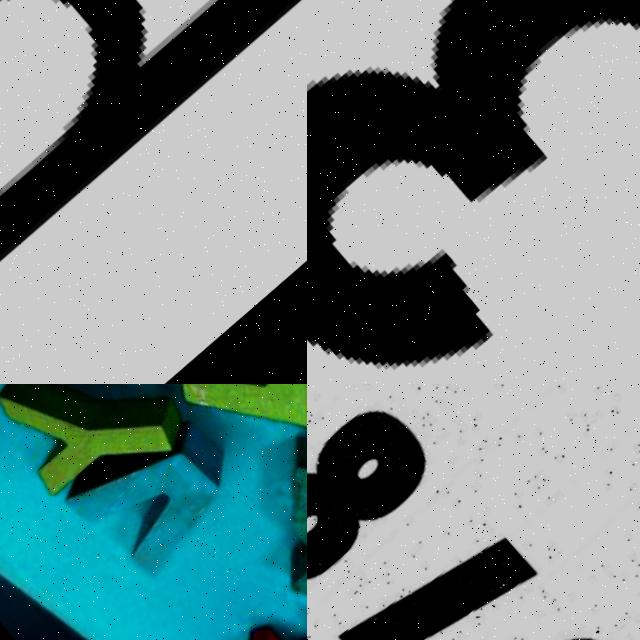3: (307, 0, 640, 384)
6: (413, 604, 640, 640)
7: (317, 490, 569, 640)
8: (307, 384, 466, 615)
9: (307, 384, 374, 503)
F: (118, 384, 307, 487)
K: (238, 414, 307, 640)
V: (71, 404, 266, 591)
Y: (0, 384, 187, 522)
